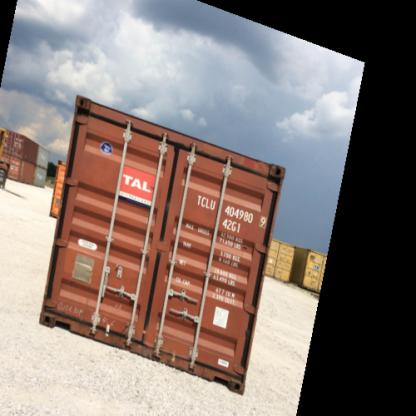Damage: (117, 320, 158, 358)
